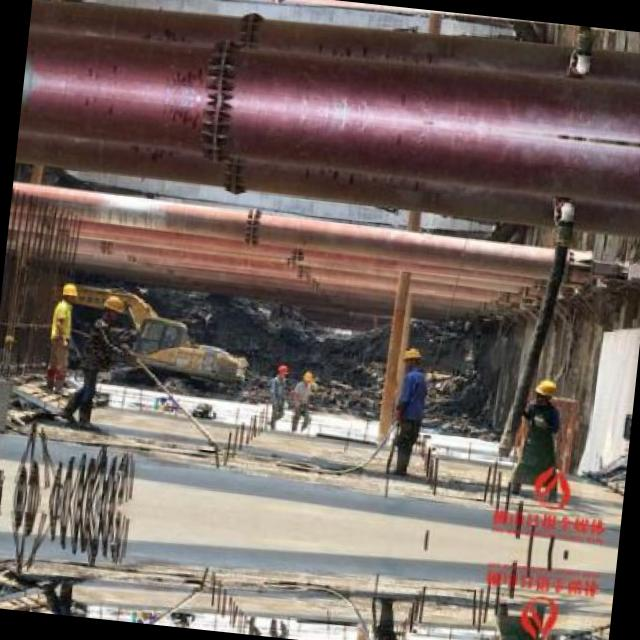helmet: (528, 375, 558, 404), (98, 290, 125, 321), (398, 342, 422, 369), (58, 281, 80, 306), (276, 362, 292, 379), (299, 368, 314, 384)
